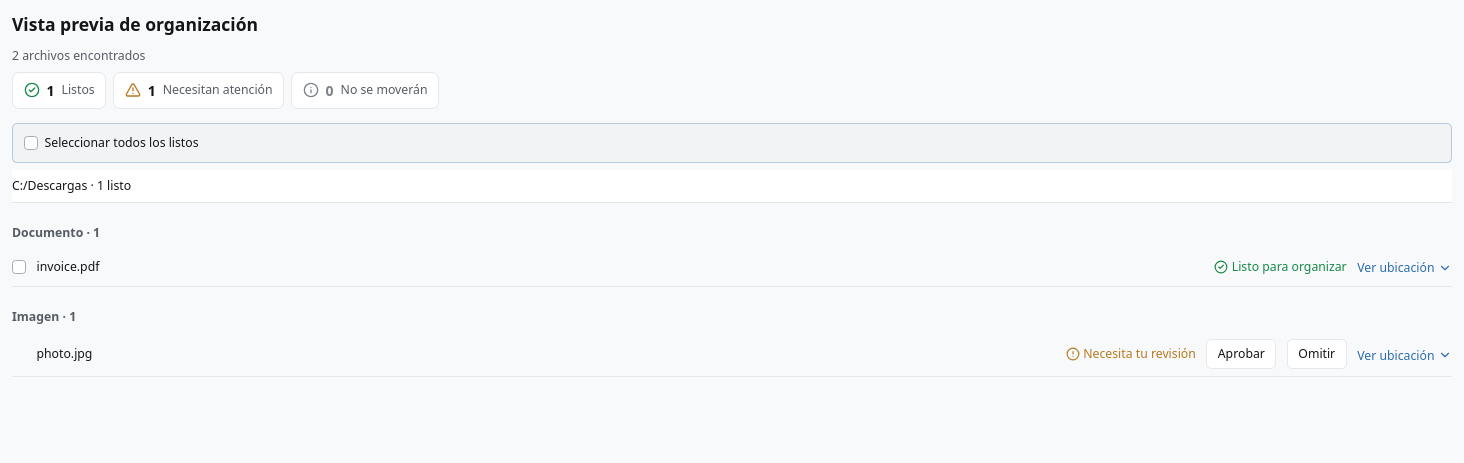
it: PlanScreen › does not render 'Organizar' at all until at least one item is selected
This screenshot has width=1464, height=463.
Expected: the text "invoice.pdf" is shown, left=36, top=258, right=99, bottom=275
Step 1. Click the checkbox named "Seleccionar invoice.pdf" → {"x": 19, "y": 267}, box left=12, top=260, right=26, bottom=274
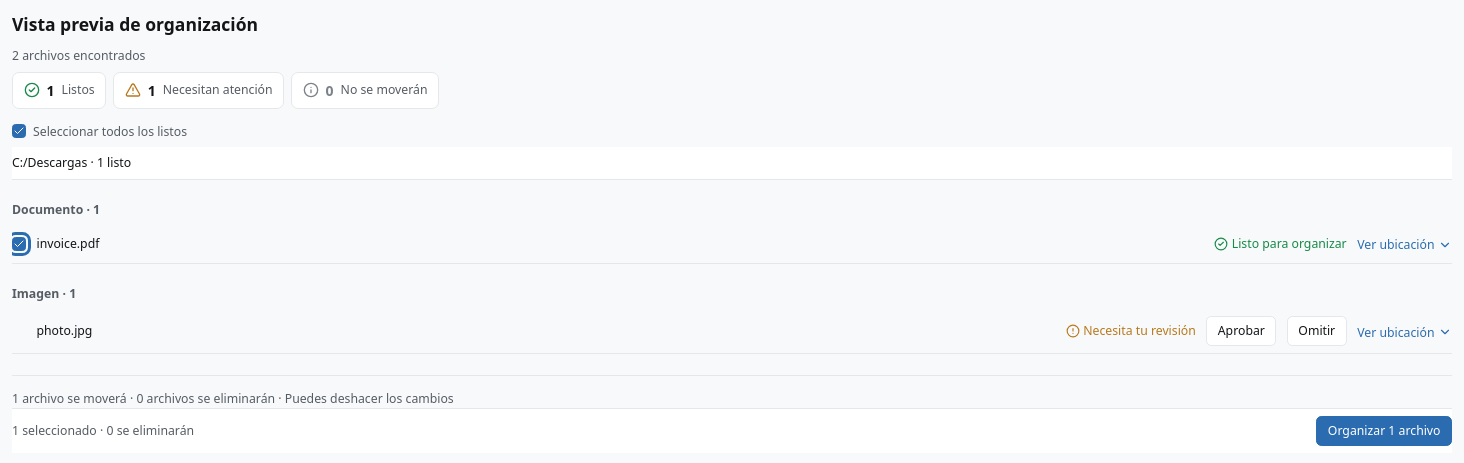
Expected: the button "Organizar 1 archivo" is enabled, left=1316, top=416, right=1452, bottom=446
